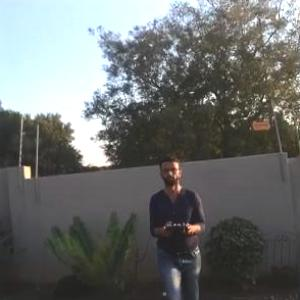follow: (146, 141, 211, 299)
